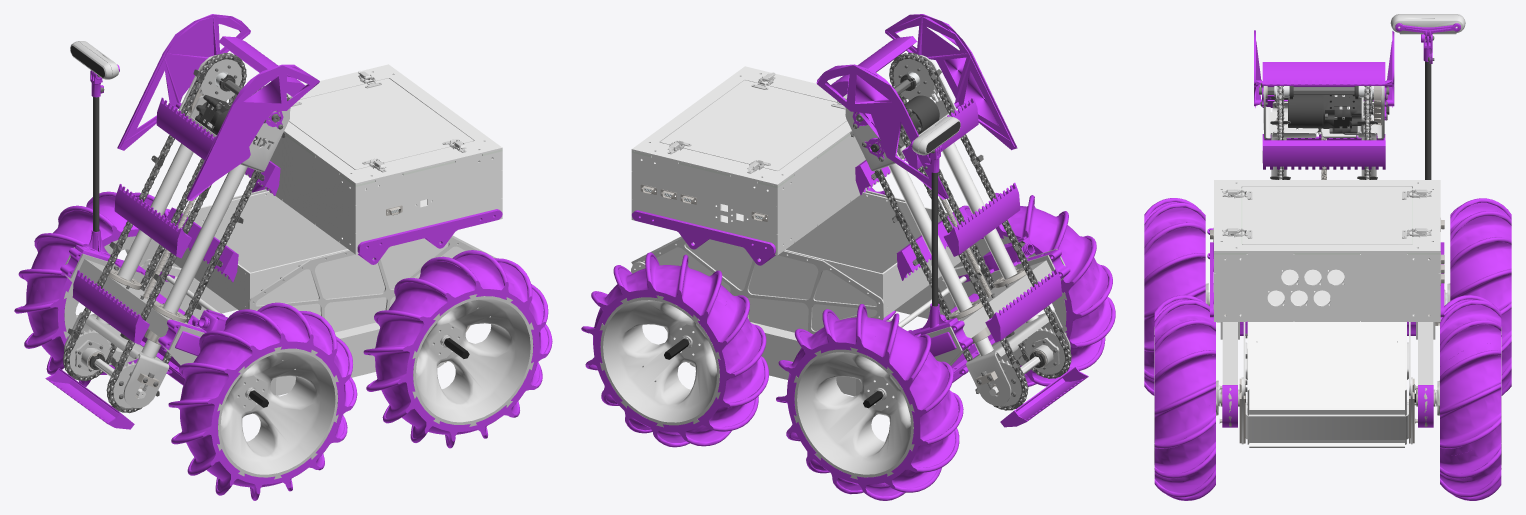
File: luna-rover.glb
The picture shows the model from 3 angles, left to right: view 1: azimuth 30°, elevation 25°; view 2: azimuth 150°, elevation 25°; view 3: azimuth 270°, elevation 25°; orthographic projection.
Parts seen in each view (by area): view 1: Body1.036, Body1.2595, Body1.494, Body1.1013, Body1.2411, Body1.1285, Body1.1073, Body1.292, Body1.1016, Body1.1321, Body1.995, Body1.2367 (+7 smaller); view 2: Body1.036, Body1.2595, Body1.494, Body1.1013, Body1.2411, Body1.1285, Body1.1073, Body1.292, Body1.1016, Body1.2393, Body1.2367, Body1.995 (+10 smaller); view 3: Body1.036, Body1.2595, Body1.2411, Body1.1013, Body1.2423, Body1.1321, Body1.1037, Body1.2285, Body1.203, Body1.2325, Body1.1285, Body1.893 (+5 smaller).
Part boxes in pixels (<box>): Body1.036: <box>14,182,552,500</box>; Body1.2595: <box>245,64,502,254</box>; Body1.494: <box>64,234,533,479</box>; Body1.1013: <box>45,14,319,429</box>; Body1.2411: <box>169,191,496,332</box>; Body1.1285: <box>63,53,290,413</box>; Body1.1073: <box>96,143,247,358</box>; Body1.292: <box>65,247,276,394</box>; Body1.1016: <box>64,312,169,408</box>; Body1.1321: <box>71,59,260,409</box>; Body1.995: <box>64,53,262,408</box>; Body1.2367: <box>357,209,502,264</box>; Body1.036: <box>581,187,1115,500</box>; Body1.2595: <box>631,66,890,255</box>; Body1.494: <box>600,236,1066,479</box>; Body1.1013: <box>816,14,1088,427</box>; Body1.2411: <box>631,192,960,332</box>; Body1.1285: <box>850,52,1071,410</box>; Body1.1073: <box>888,143,1038,355</box>; Body1.292: <box>856,249,1065,395</box>; Body1.1016: <box>966,310,1070,405</box>; Body1.2393: <box>635,190,966,334</box>; Body1.2367: <box>631,210,775,265</box>; Body1.995: <box>893,53,1070,405</box>; Body1.036: <box>1144,198,1511,500</box>; Body1.2595: <box>1214,180,1440,321</box>; Body1.2411: <box>1247,321,1406,447</box>; Body1.1013: <box>1254,23,1460,169</box>; Body1.2423: <box>1245,342,1408,439</box>; Body1.1321: <box>1277,49,1431,179</box>; Body1.1037: <box>1263,14,1465,139</box>; Body1.2285: <box>1418,322,1433,384</box>; Body1.203: <box>1222,322,1237,384</box>; Body1.2325: <box>1213,283,1445,443</box>; Body1.1285: <box>1270,86,1377,179</box>; Body1.893: <box>1259,35,1434,133</box>.
Size of the model in its own units: 0.7641 by 0.7031 by 0.6078.
